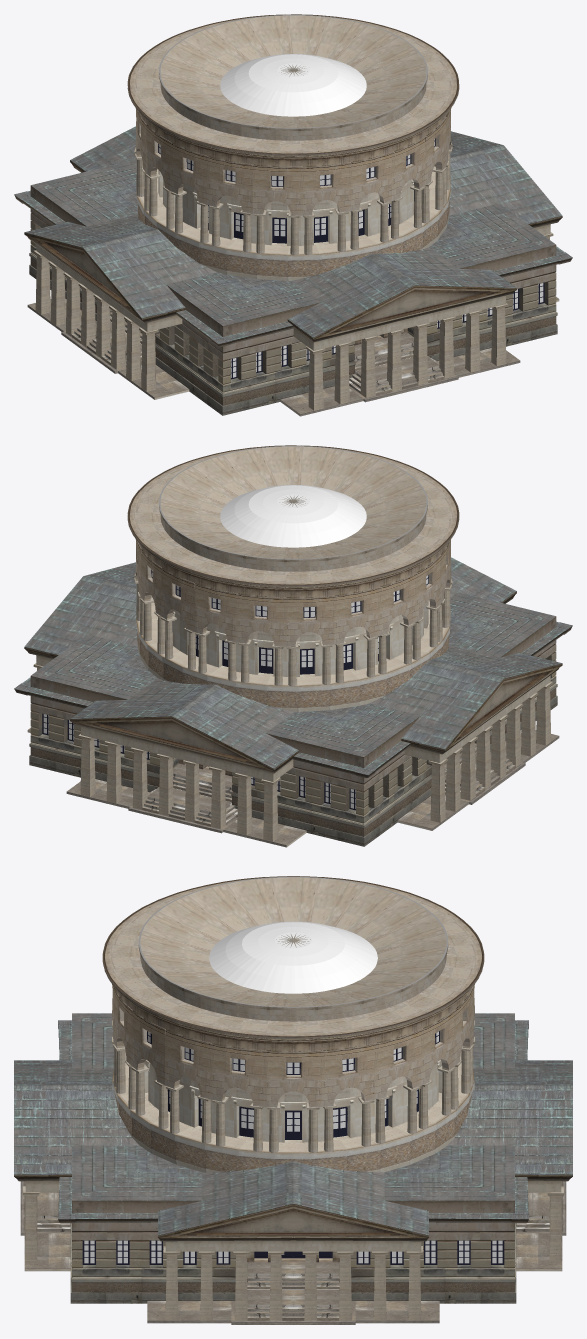
3 renders of one model, top to bottom at view 1: azimuth 30°, elevation 25°; view 2: azimuth 150°, elevation 25°; view 3: azimuth 270°, elevation 25°, orthographic. The views are drawn at different scales.
Parts seen in each view (by area): view 1: arch_10, Cube.007.D_29, Cube.003_37, Cube.001_30, cylinder_22, arch pilar_11, Plane_13, Cube_39, Cube.002_16, Cube.004_38, front stairs_24, window first floor_27 (+3 smaller); view 2: arch_10, Cube.007.D_29, Cube.003_37, Cube.001_30, cylinder_22, arch pilar_11, Plane_13, Cube_39, Cube.002_16, Cube.004_38, front stairs_24, window first floor_27 (+3 smaller); view 3: arch_10, Cube.007.D_29, Cube.003_37, cylinder_22, Cube.001_30, arch pilar_11, Cube_39, Plane_13, Cube.002_16, front stairs_24, Cube.004_38, Cube.006_26 (+3 smaller).
Part boxes in pixels (<box>): arch_10: <box>127,14,459,215</box>; Cube.007.D_29: <box>29,161,557,415</box>; Cube.003_37: <box>24,126,562,339</box>; Cube.001_30: <box>33,232,553,410</box>; cylinder_22: <box>136,166,451,280</box>; arch pilar_11: <box>134,143,452,255</box>; Plane_13: <box>158,65,413,245</box>; Cube_39: <box>27,297,559,416</box>; Cube.002_16: <box>14,162,572,346</box>; Cube.004_38: <box>36,224,550,350</box>; front stairs_24: <box>71,321,444,395</box>; window first floor_27: <box>208,190,414,243</box>; arch_10: <box>127,445,459,646</box>; Cube.007.D_29: <box>29,592,557,846</box>; Cube.003_37: <box>24,557,562,770</box>; Cube.001_30: <box>33,663,553,841</box>; cylinder_22: <box>136,597,450,711</box>; arch pilar_11: <box>134,574,452,686</box>; Plane_13: <box>172,496,428,676</box>; Cube_39: <box>27,728,559,847</box>; Cube.002_16: <box>14,593,572,777</box>; Cube.004_38: <box>36,655,550,781</box>; front stairs_24: <box>142,752,515,826</box>; window first floor_27: <box>172,621,378,674</box>; arch_10: <box>102,876,484,1107</box>; Cube.007.D_29: <box>70,1013,516,1303</box>; Cube.003_37: <box>14,1060,572,1237</box>; cylinder_22: <box>112,1051,474,1172</box>; Cube.001_30: <box>23,1181,563,1320</box>; arch pilar_11: <box>112,1020,474,1152</box>; Cube_39: <box>20,1181,566,1324</box>; Plane_13: <box>144,934,442,1142</box>; Cube.002_16: <box>15,1020,571,1241</box>; front stairs_24: <box>37,1192,549,1320</box>; Cube.004_38: <box>25,1180,561,1251</box>; Cube.006_26: <box>82,1240,504,1264</box>.
Size of the model in its own units: 36.98 by 19.65 by 36.98.
14 materials, 11 textured.
